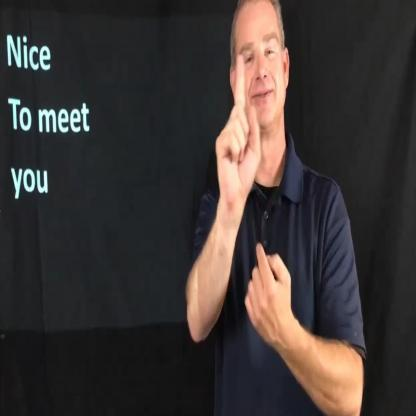NiceToMeetYou: (209, 50, 298, 344)
